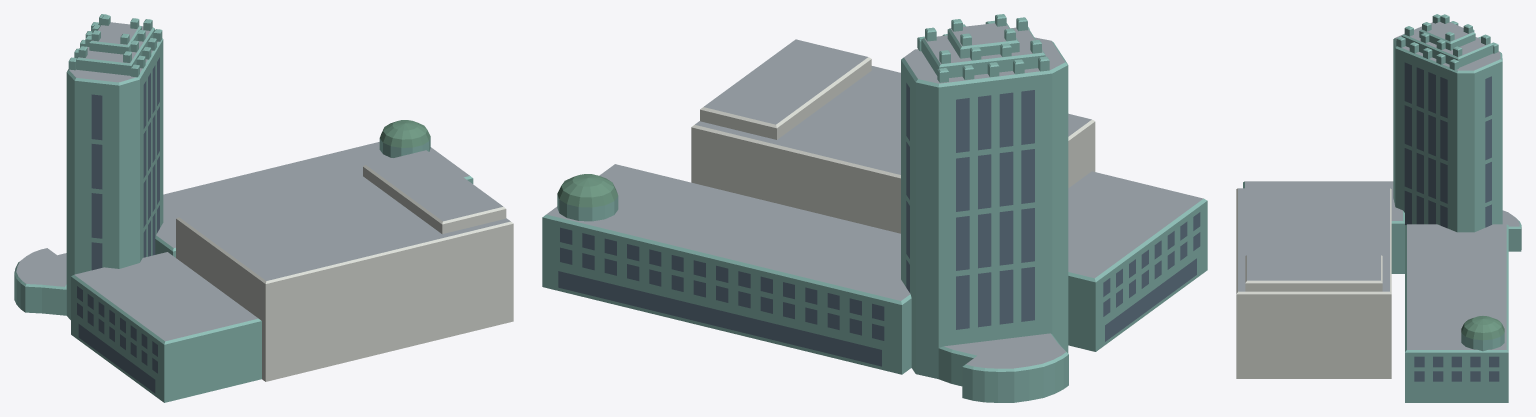
File: detail.glb
The picture shows the model from 3 angles, left to right: view 1: azimuth 30°, elevation 25°; view 2: azimuth 150°, elevation 25°; view 3: azimuth 270°, elevation 25°; orthographic projection. The views are drawn at different scales.
Parts seen in each view (by area): view 1: the-wiltern; view 2: the-wiltern; view 3: the-wiltern.
Boxes of the visible parts, box(x1,y1,x2,y2) form: the-wiltern: box(14, 14, 513, 402); the-wiltern: box(542, 14, 1207, 402); the-wiltern: box(1236, 14, 1521, 402).
Size of the model in its own units: 93.47 by 59.1 by 64.3.
